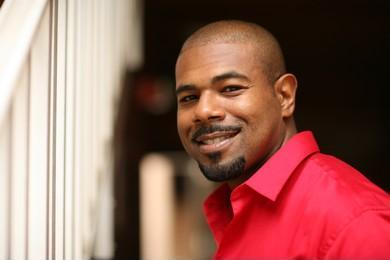face: (177, 63, 281, 182)
